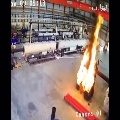fire: (77, 14, 103, 93)
